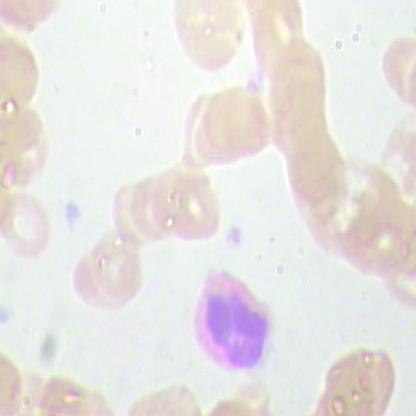Platelets: (225, 223, 245, 249), (62, 200, 82, 226)
RBC: (160, 1, 251, 81), (70, 230, 148, 312), (322, 338, 400, 416), (164, 169, 224, 252), (282, 136, 344, 210), (249, 0, 306, 80), (1, 113, 60, 190), (1, 190, 55, 272), (216, 92, 272, 166), (1, 35, 49, 111), (126, 177, 178, 242)
WBC: (186, 263, 278, 375)
